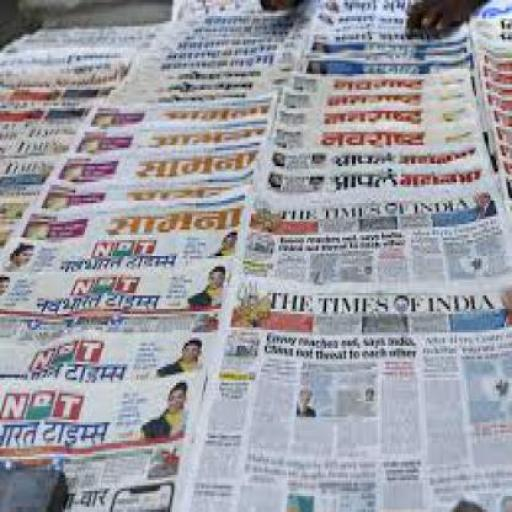paper: (182, 274, 510, 510), (0, 206, 238, 475), (1, 270, 227, 510), (1, 338, 212, 504), (240, 184, 510, 296), (0, 374, 204, 509), (35, 177, 249, 269), (50, 148, 259, 232), (65, 124, 261, 201), (87, 103, 271, 185), (251, 156, 495, 203), (124, 66, 281, 127), (471, 15, 510, 227), (113, 87, 275, 135), (158, 26, 285, 87), (144, 42, 278, 98), (266, 134, 477, 166), (28, 26, 152, 80), (0, 153, 68, 235), (176, 13, 288, 61), (287, 69, 466, 95), (272, 100, 474, 122), (309, 36, 470, 61), (279, 88, 471, 108), (298, 56, 477, 76), (2, 82, 93, 121), (270, 116, 472, 132), (0, 118, 84, 156), (0, 56, 127, 76)
